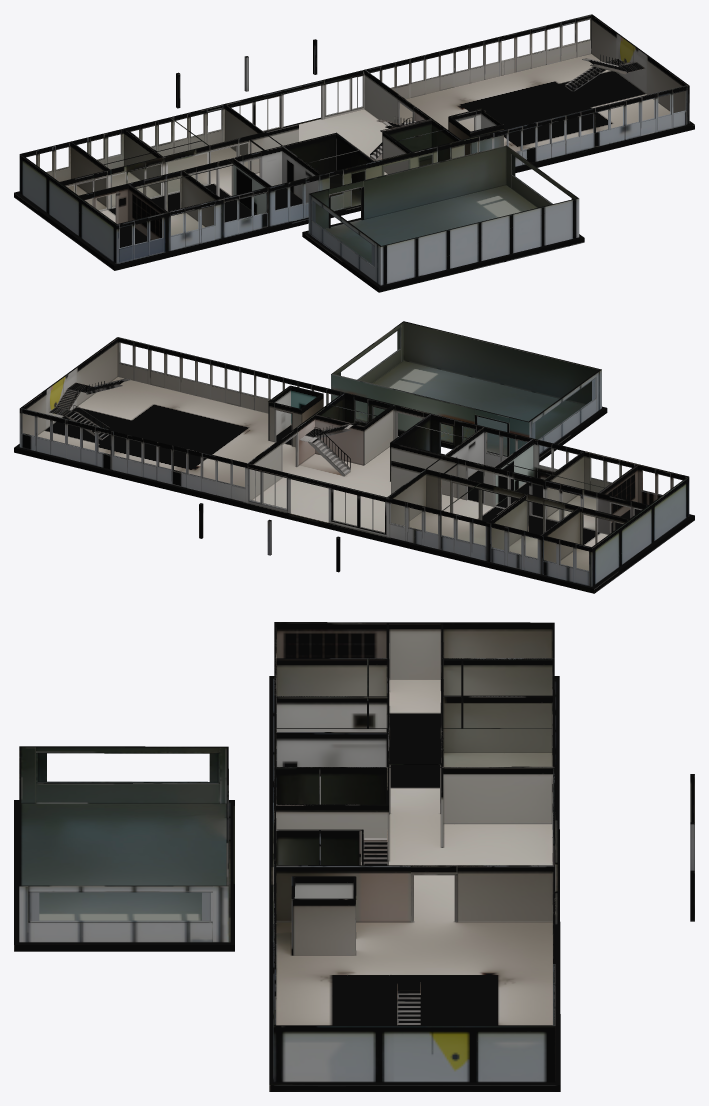
Rendered from world_shell0.glb.
3 renders of one model, top to bottom at view 1: azimuth 30°, elevation 25°; view 2: azimuth 150°, elevation 25°; view 3: azimuth 270°, elevation 25°, orthographic. The views are drawn at different scales.
Parts seen in each view (by area): view 1: W_shell0; view 2: W_shell0; view 3: W_shell0.
Part boxes in pixels (x1,y1,x2,y2): W_shell0: (14,14,694,292); W_shell0: (14,321,694,593); W_shell0: (14,622,694,1091).
Bounding box in the file's own units: 38.1 × 2.92 × 26.81.
Materials: 1 (1 with a texture image).
